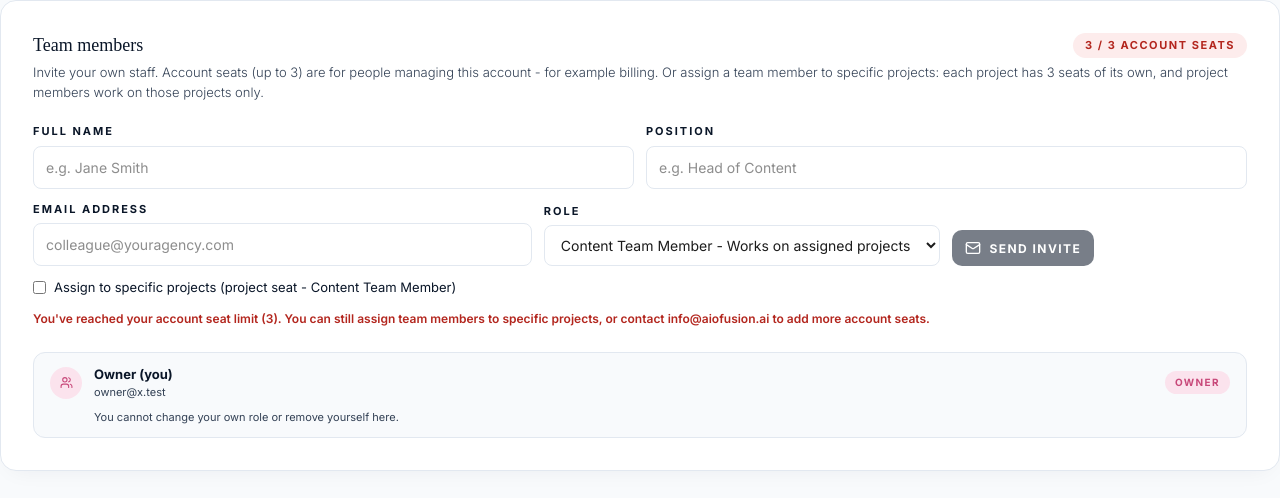
Test: TeamSection team modes › agency mode: a full account pool blocks account invites but not project seats
Expected: the text "account seat limit" is shown, [33,311,930,326]
Expected: the button "Send invite" is disabled, [952,230,1094,266]
Switching to a project seat re-enables the form.
Click the checkbox at x=40, y=288, box [33,281,46,294]
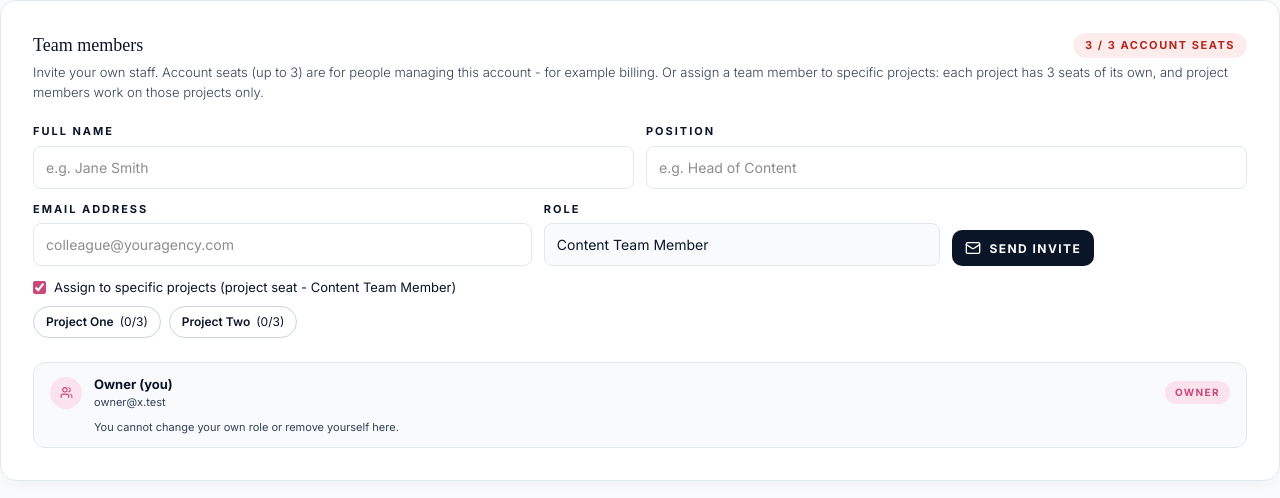
Now the button "Send invite" is enabled, box [952,230,1094,266]
